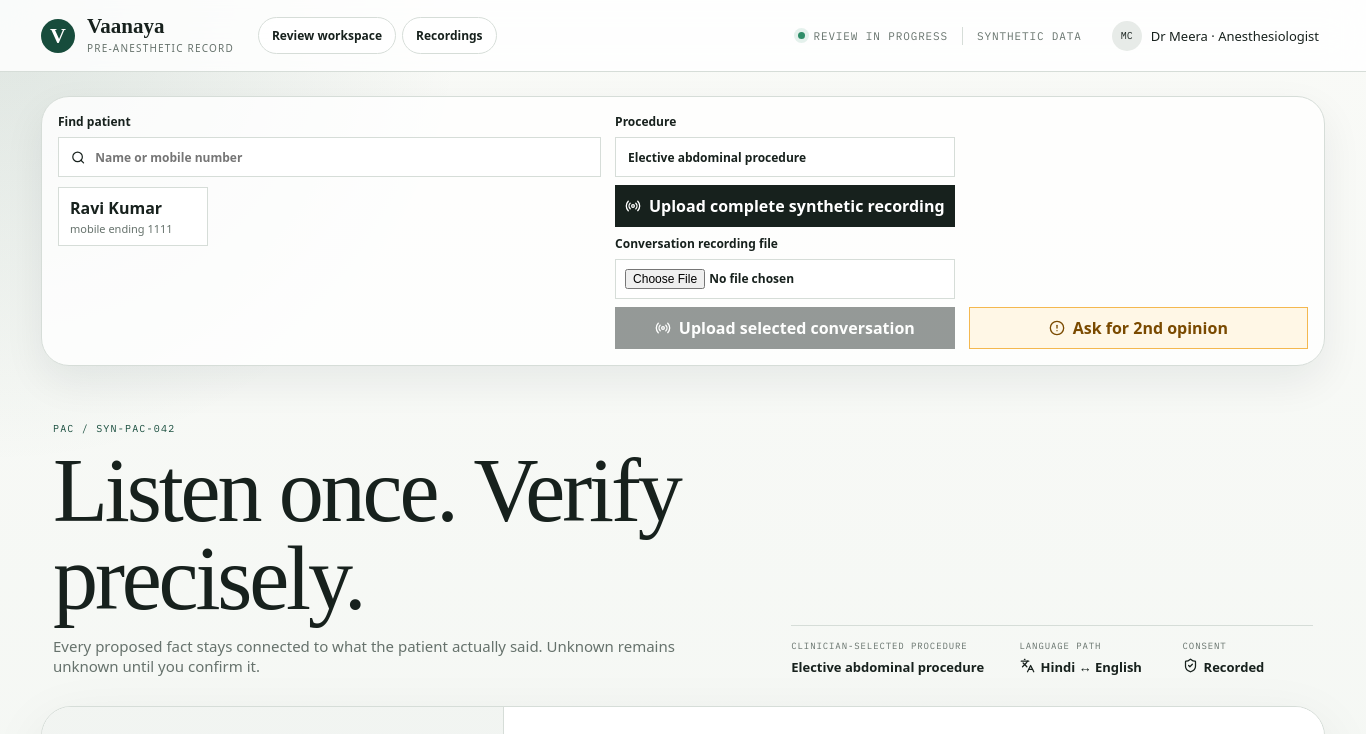
Test: PAC review workspace › lets a doctor choose a patient, upload the complete synthetic recording, and review generated next questions
Replace the text in the field labelled "Procedure" with "Elective hernia repair" at (785, 157), box [615,137,955,177]
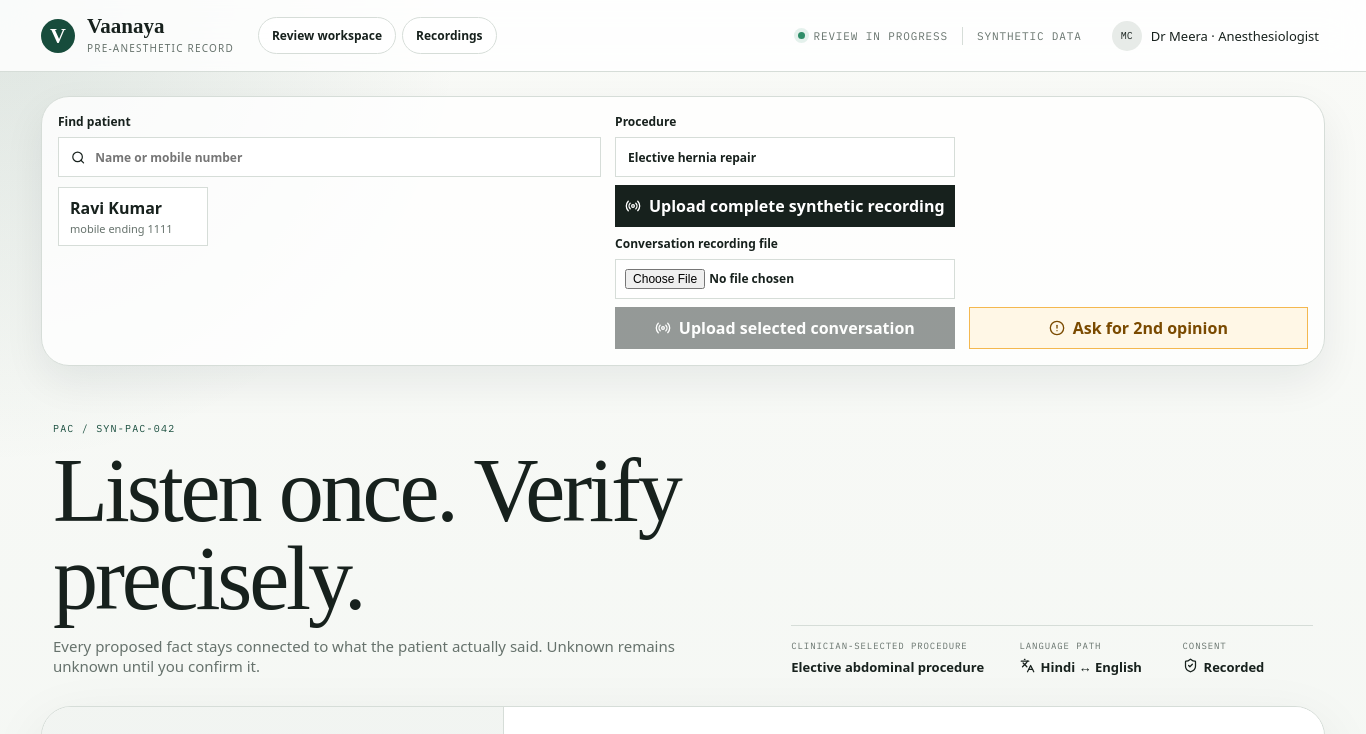
Click the button "Ravi Kumar mobile ending 1111" at (133, 216), box [58,187,208,246]
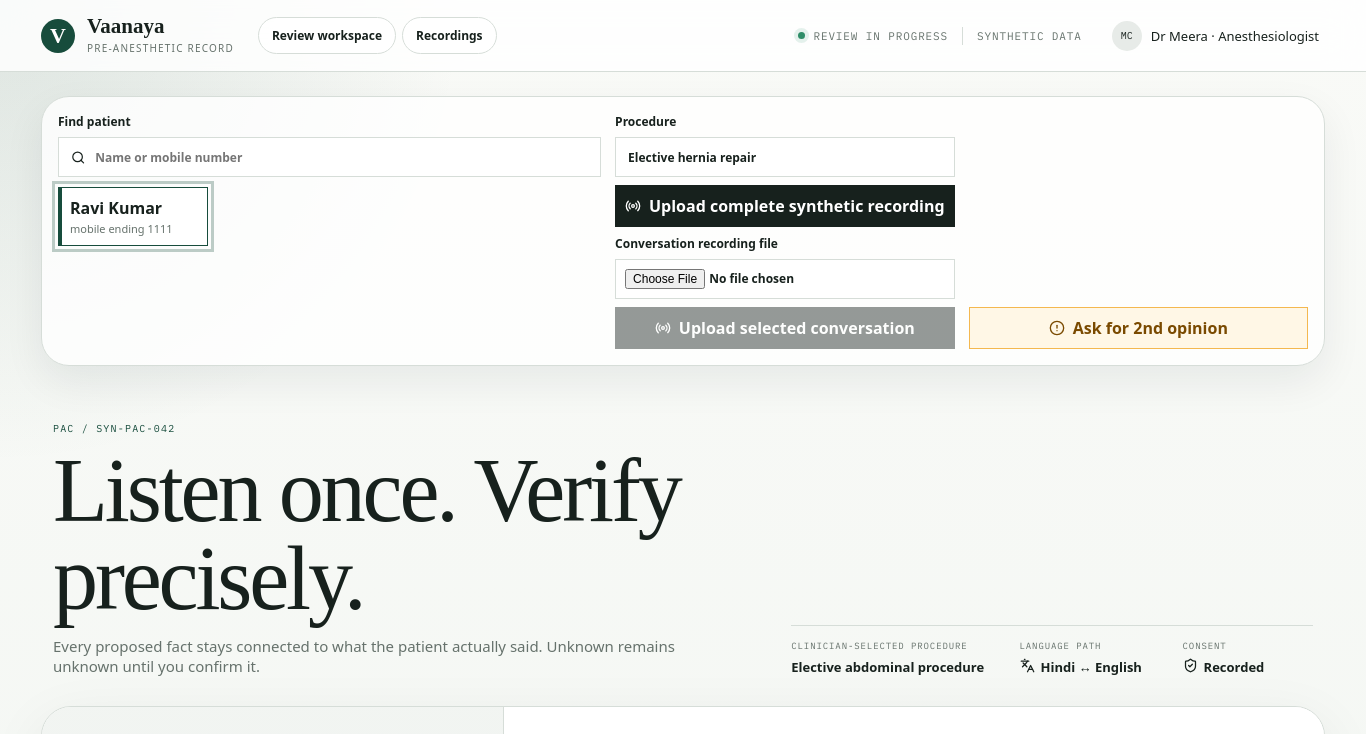
Click the button "Upload complete synthetic recording" at (785, 206), box [615,185,955,227]
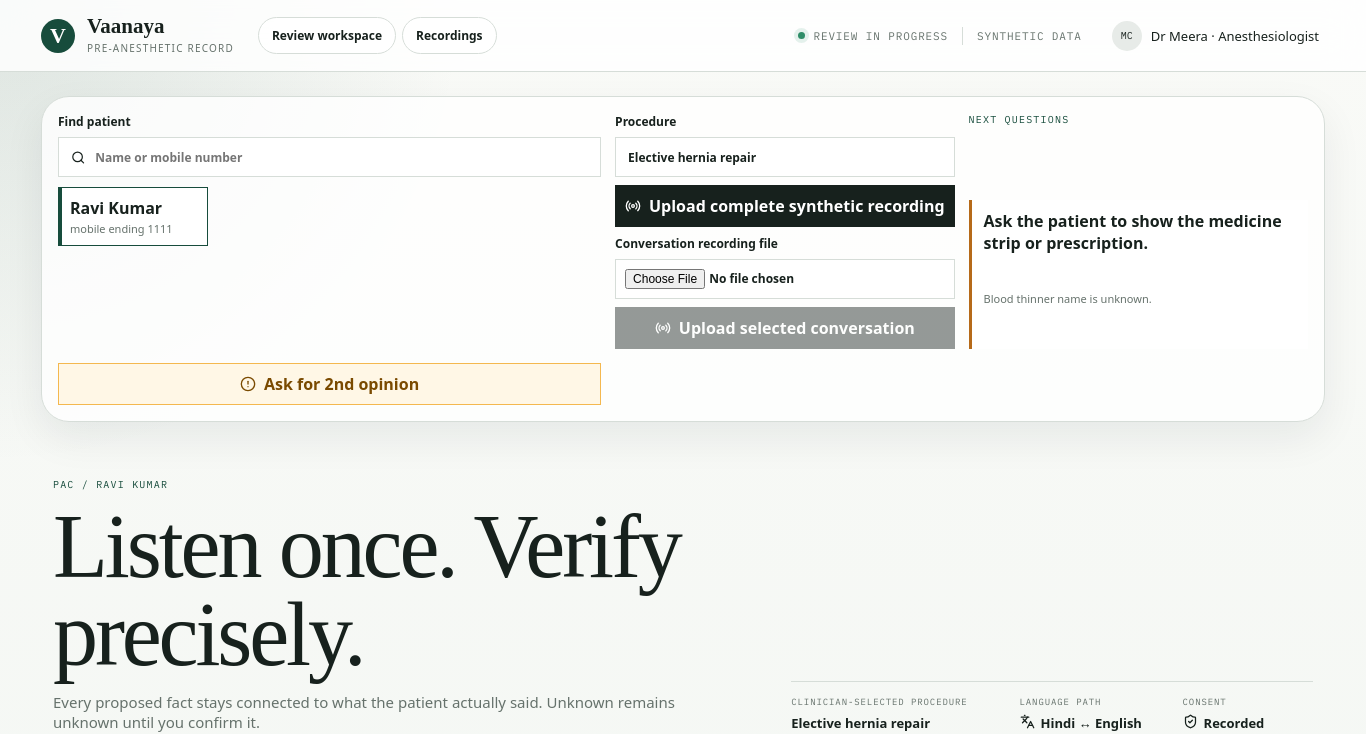
Expected: the text "Clinician-selected procedure" is shown, [791,696,968,707]
Expected: the text "Elective hernia repair" is shown, [791,714,930,732]
Expected: the text "Ask the patient to show the medicine strip or prescription." is shown, [984,210,1282,254]
Click the button "Ask for 2nd opinion" at (330, 384), box [58,363,601,405]
(page scrolled)
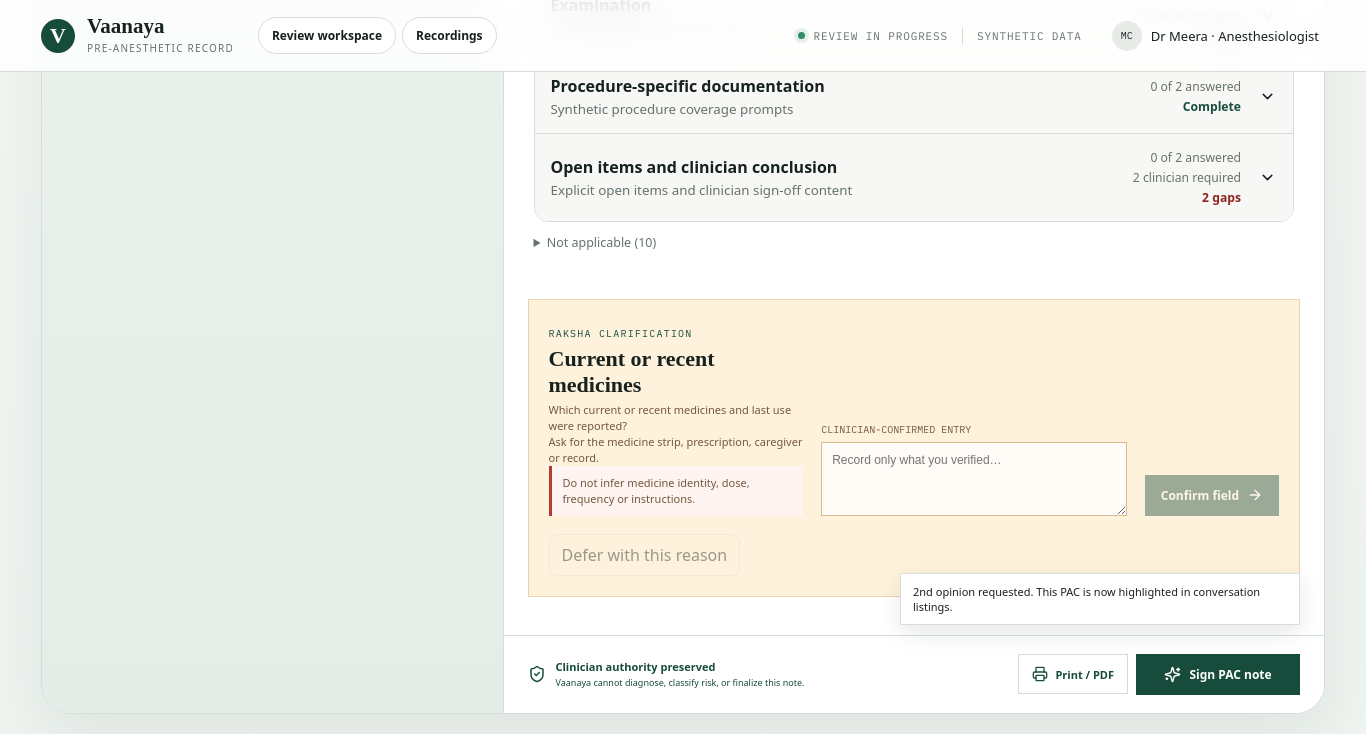
Expected: the message shows "highlighted in conversation listings", [913,584,1260,614]
